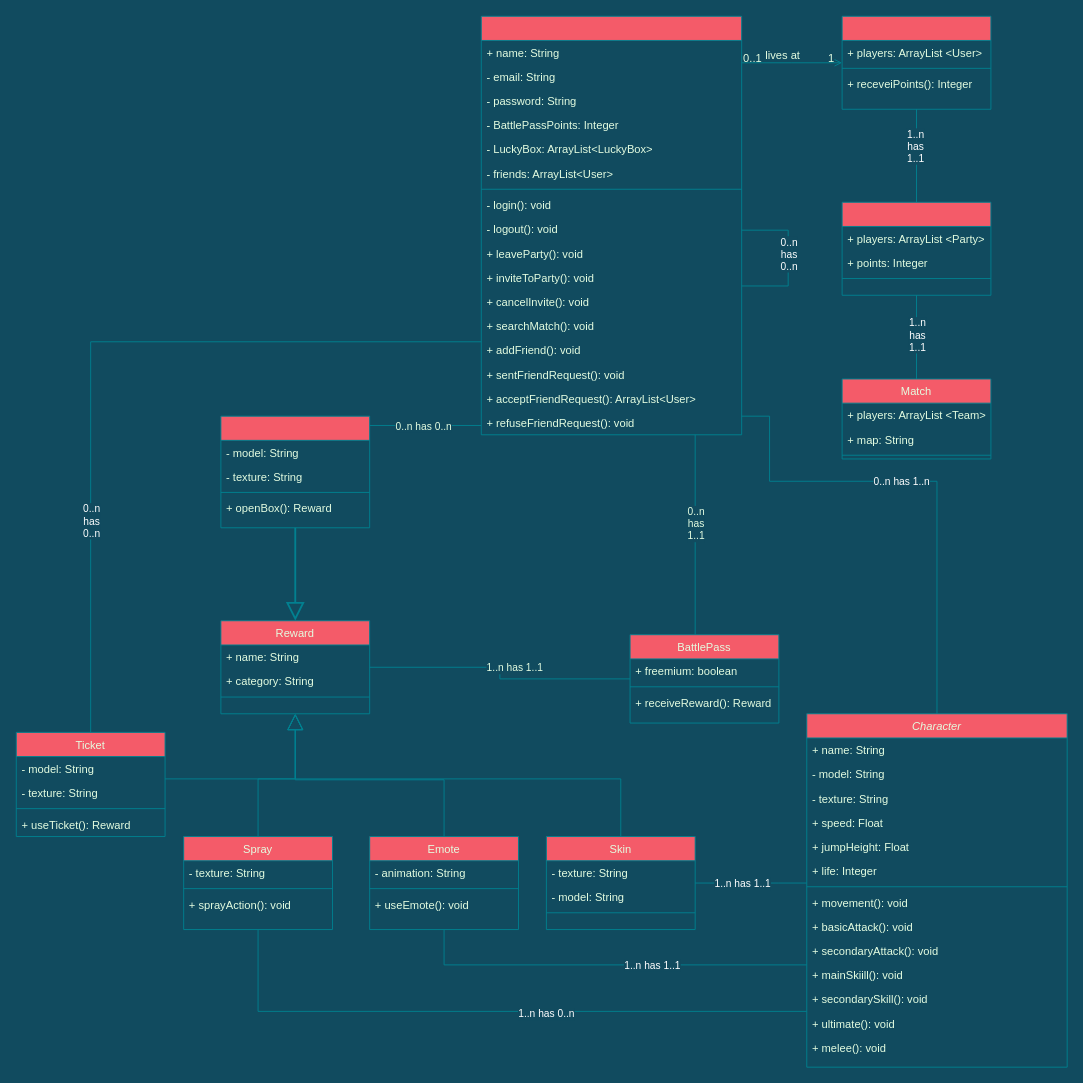
Some shapes in this 1083 by 1083 pixel diagram are drawn without their labels. The shapes that lost their labels are listed below. From the top down, each one's box as (x1, y1, x2, y2) in pixels, then its label:
(841, 15, 991, 109): Party
(480, 15, 742, 435): User
(841, 201, 991, 295): Team
(220, 415, 370, 528): LuckyBox
